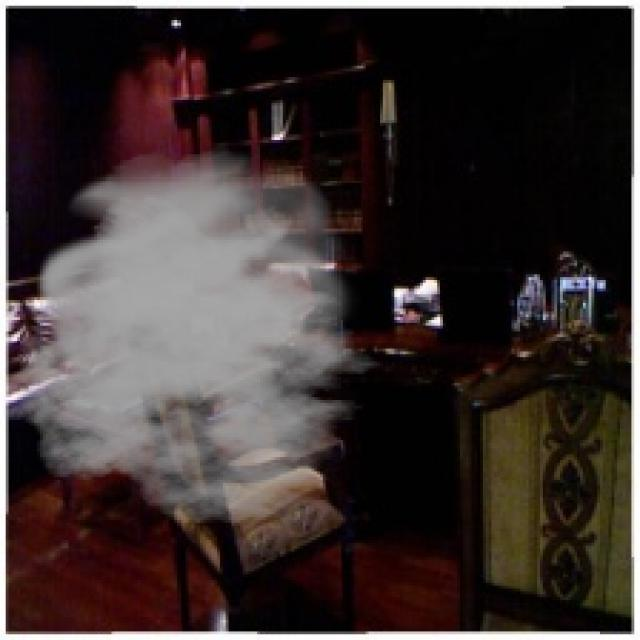Smoke: (3, 148, 400, 526)
